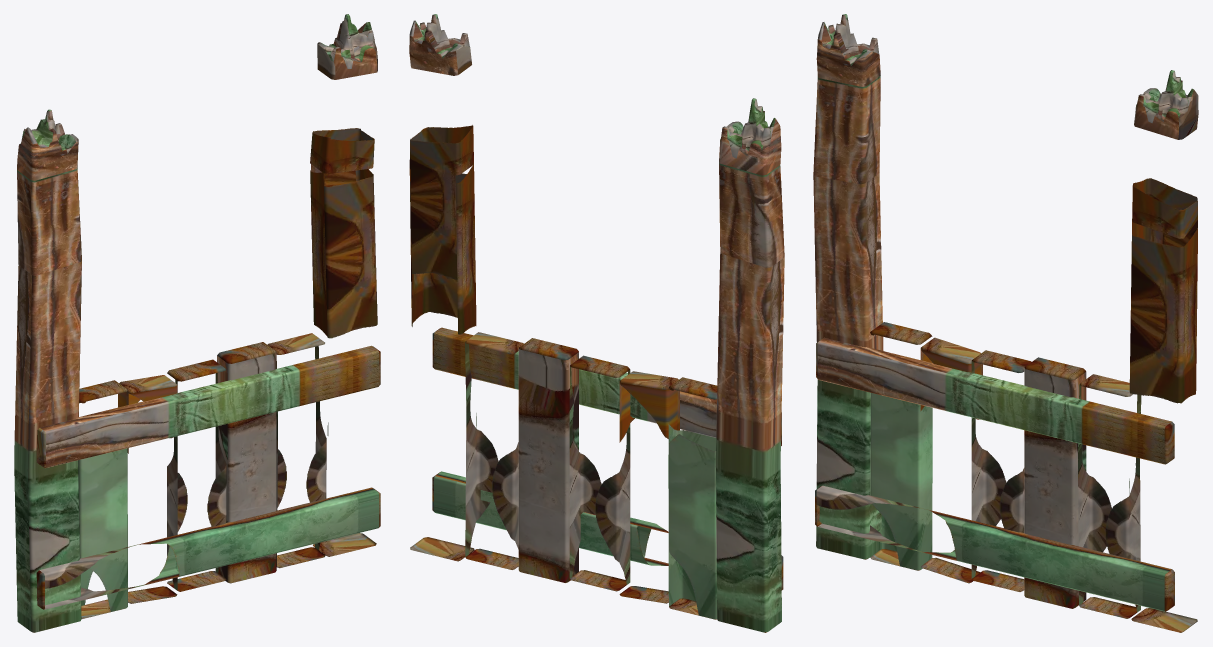
3 renders of one model, left to right at view 1: azimuth 30°, elevation 25°; view 2: azimuth 150°, elevation 25°; view 3: azimuth 330°, elevation 25°, orthographic. The views are drawn at different scales.
Parts seen in each view (by area): view 1: SM_HuntersShortbow_OakWood_2H_02_LOD0; view 2: SM_HuntersShortbow_OakWood_2H_02_LOD0; view 3: SM_HuntersShortbow_OakWood_2H_02_LOD0.
Part boxes in pixels (bbox=[...]): SM_HuntersShortbow_OakWood_2H_02_LOD0: bbox=[14, 14, 380, 632]; SM_HuntersShortbow_OakWood_2H_02_LOD0: bbox=[409, 14, 784, 632]; SM_HuntersShortbow_OakWood_2H_02_LOD0: bbox=[813, 14, 1198, 632].
Size of the model in its own units: 1.99 by 2.86 by 0.2706.
